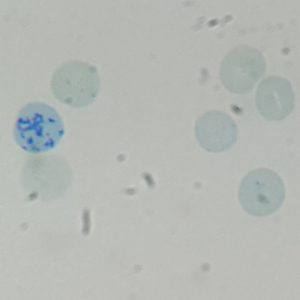aggregate reticulocyte: (11, 101, 66, 155)
erythrocyte: (218, 43, 268, 96), (18, 153, 72, 202), (254, 75, 296, 122)
punctate reticulocyte: (48, 59, 101, 109), (236, 167, 287, 218), (193, 109, 239, 154)
